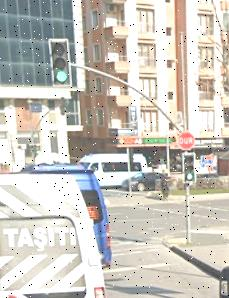greenlight: (52, 39, 69, 86), (183, 153, 195, 182)
stop: (179, 133, 194, 149)
